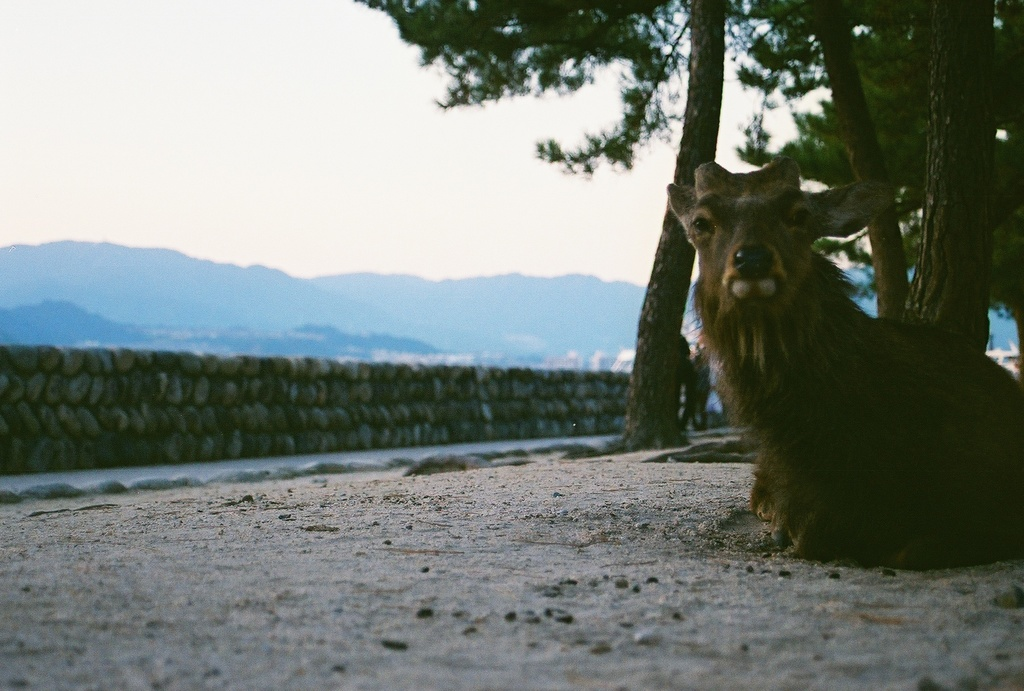Animal: (661, 152, 1023, 566)
